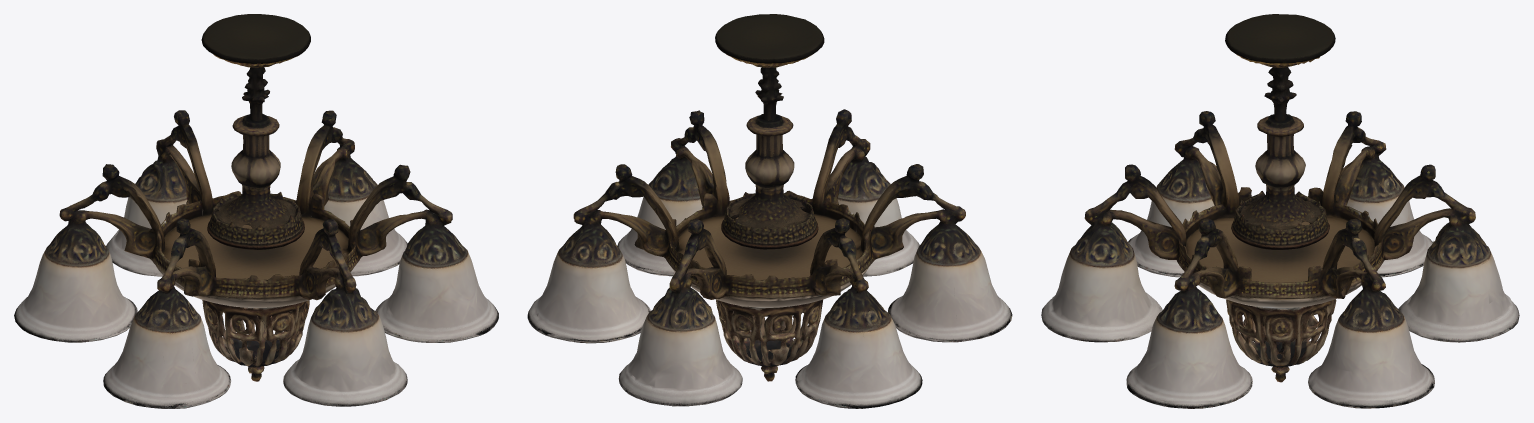
File: chandelier.glb
The picture shows the model from 3 angles, left to right: view 1: azimuth 30°, elevation 25°; view 2: azimuth 150°, elevation 25°; view 3: azimuth 270°, elevation 25°; orthographic projection.
Visible parts, largest first — view 1: world; view 2: world; view 3: world.
Part boxes in pixels (x1,y1,x2,y2): world: [14, 14, 498, 408]; world: [527, 14, 1012, 408]; world: [1041, 14, 1519, 408].
Size of the model in its own units: 0.9187 by 0.8007 by 1.
1 material, 1 textured.
